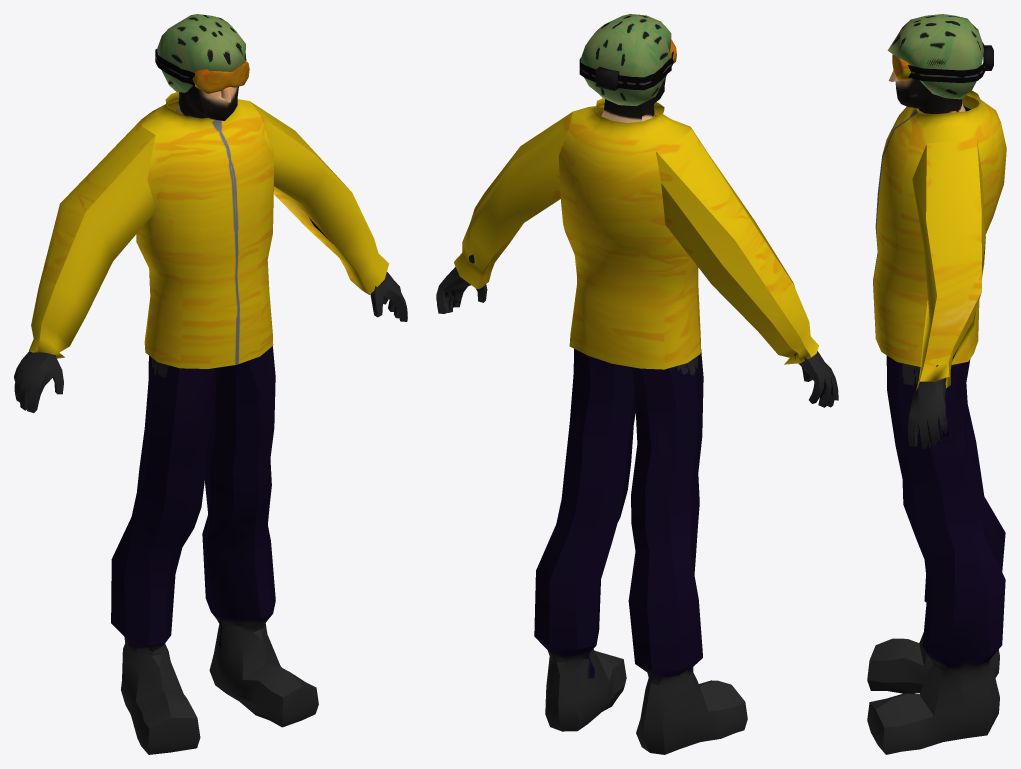
File: Skiier.fbx
3 views of the same model, side by side, from view 1: azimuth 30°, elevation 25°; view 2: azimuth 150°, elevation 25°; view 3: azimuth 270°, elevation 25° (orthographic). The views are drawn at different scales.
Visible parts, largest first — view 1: Human; view 2: Human; view 3: Human.
Part boxes in pixels (box(x1,y1,x2,y2)): Human: box(14, 14, 407, 754); Human: box(436, 14, 838, 754); Human: box(867, 14, 1006, 754).
Bounding box in the file's own units: 182 × 317 × 57.34.
Materials: 4 (4 with a texture image).
